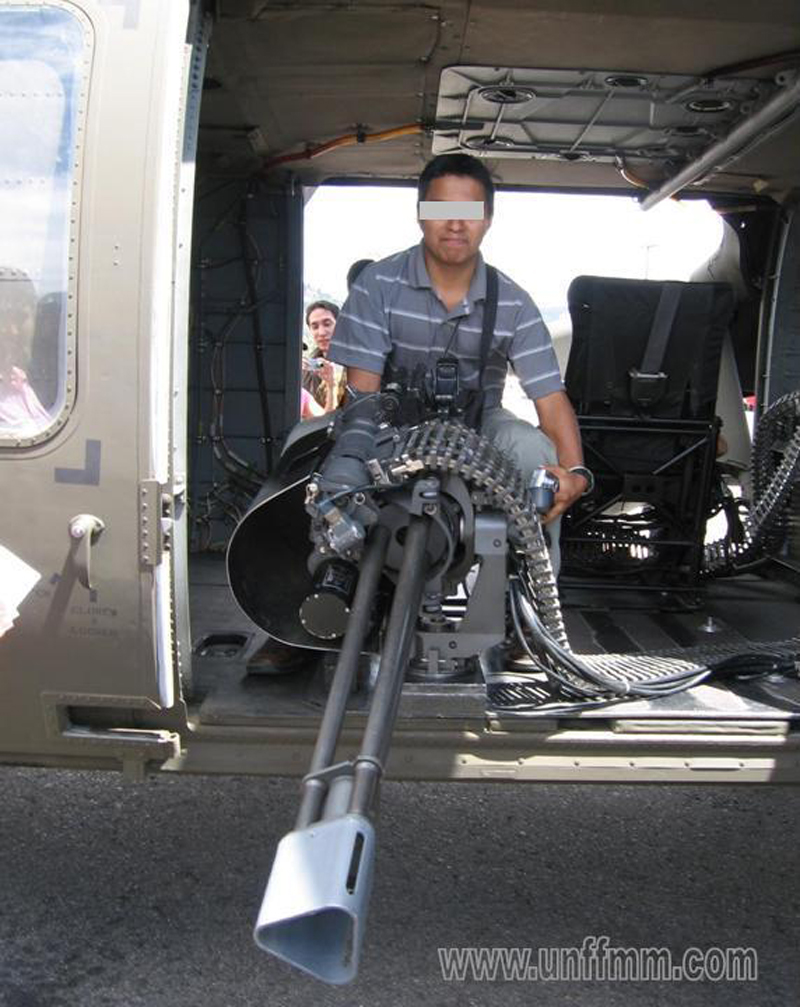rifle: (251, 432, 572, 990)
rifle in hand: (223, 385, 663, 987)
